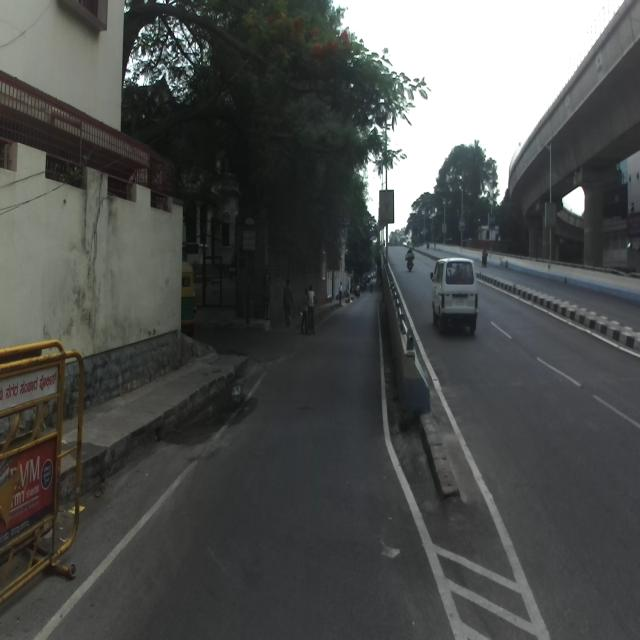barrier ahead at: (0, 342, 83, 606)
car ahead at: (427, 250, 481, 334)
